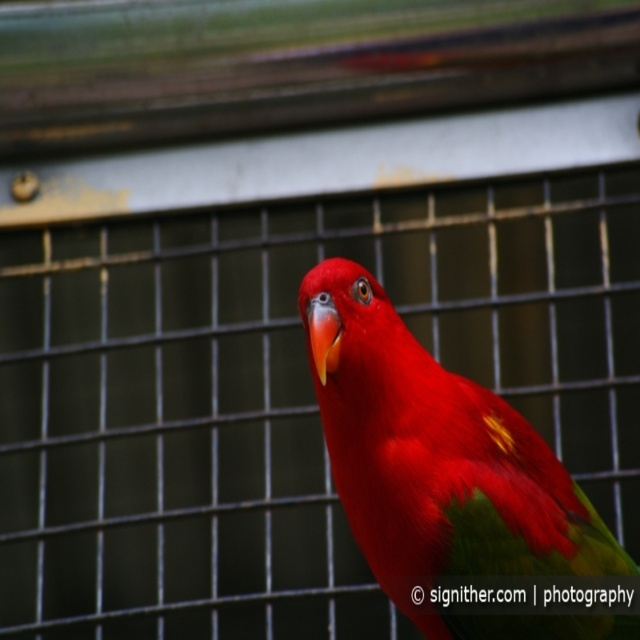Parrot: (295, 253, 638, 639)
